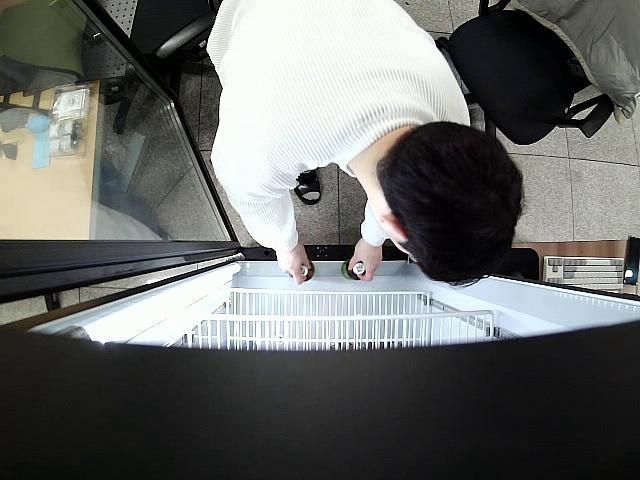19_17cha: (341, 258, 373, 283), (297, 262, 316, 281)
